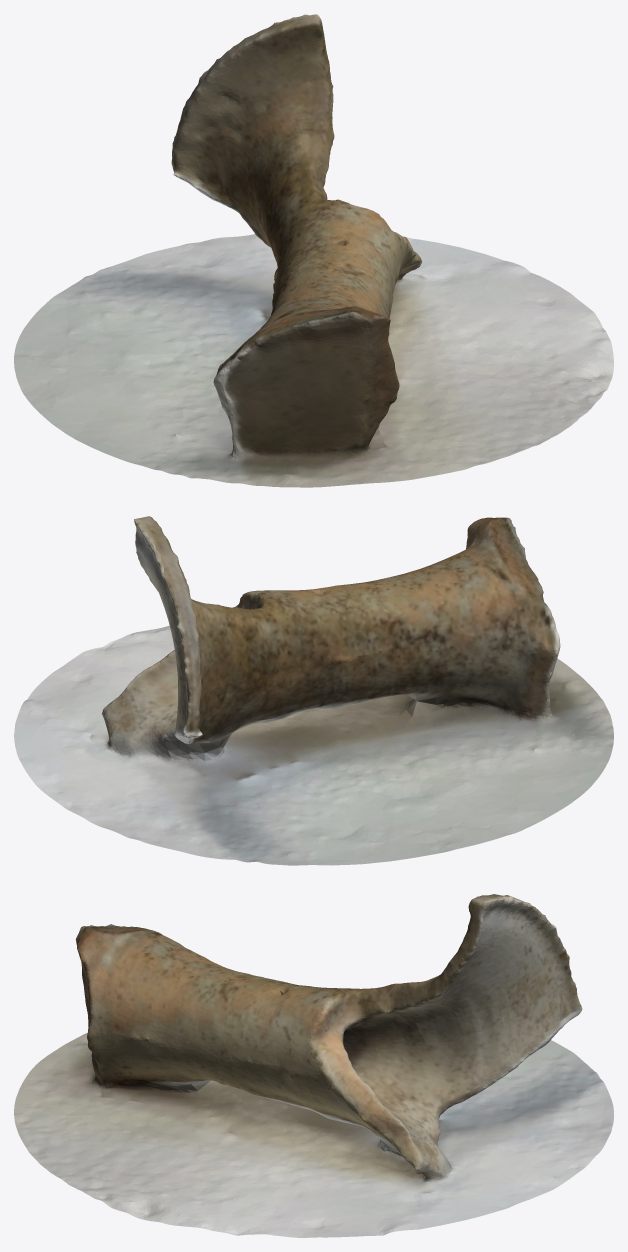
Rendered from model03_small.glb.
3 views of the same model, one above another, from view 1: azimuth 30°, elevation 25°; view 2: azimuth 150°, elevation 25°; view 3: azimuth 270°, elevation 25° (orthographic).
Parts seen in each view (by area): view 1: mesh; view 2: mesh; view 3: mesh.
Boxes of the visible parts, <box> form: mesh: <box>14,14,613,487</box>; mesh: <box>14,516,613,865</box>; mesh: <box>14,894,613,1237</box>.
Bounding box in the file's own units: 0.2268 × 0.1105 × 0.2298.
Materials: 1 (1 with a texture image).
